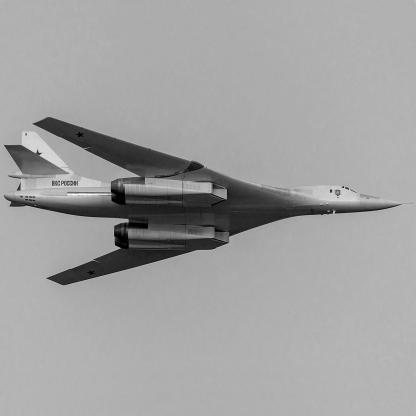Tu160: (4, 117, 415, 287)
